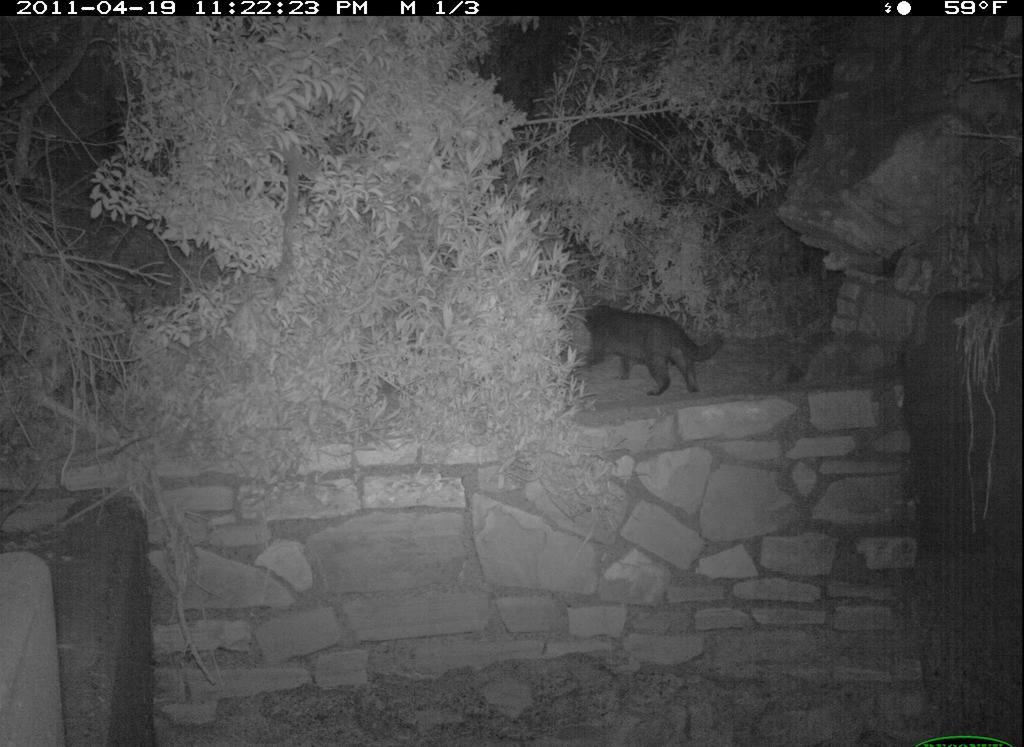cat: (580, 300, 729, 400)
